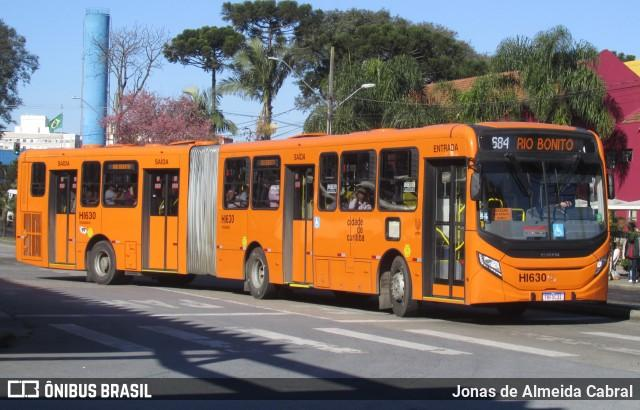RIO BONITO: (512, 134, 578, 154)
